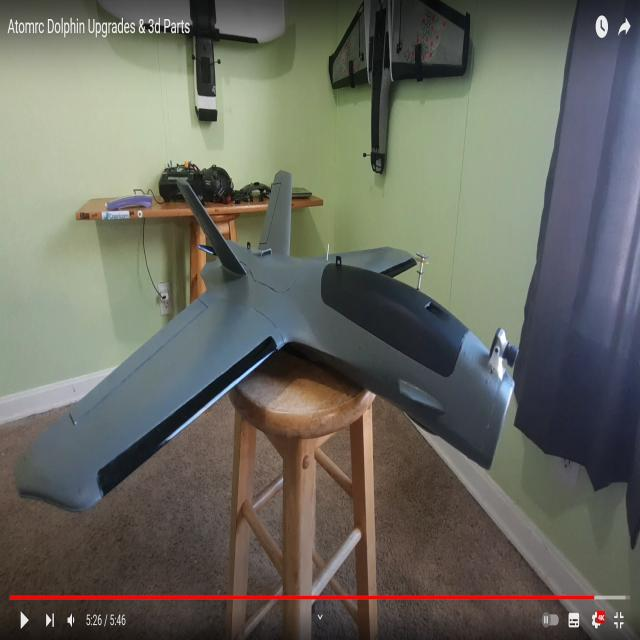iha: (11, 180, 510, 516)
